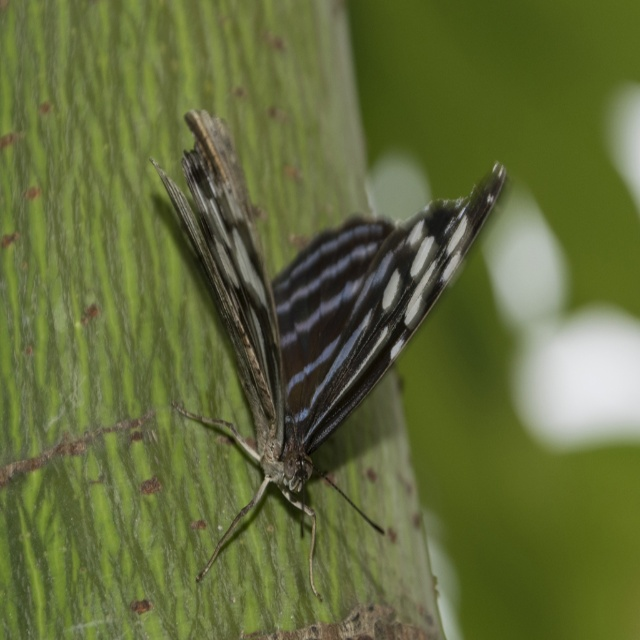Butterfly: (160, 115, 498, 640)
